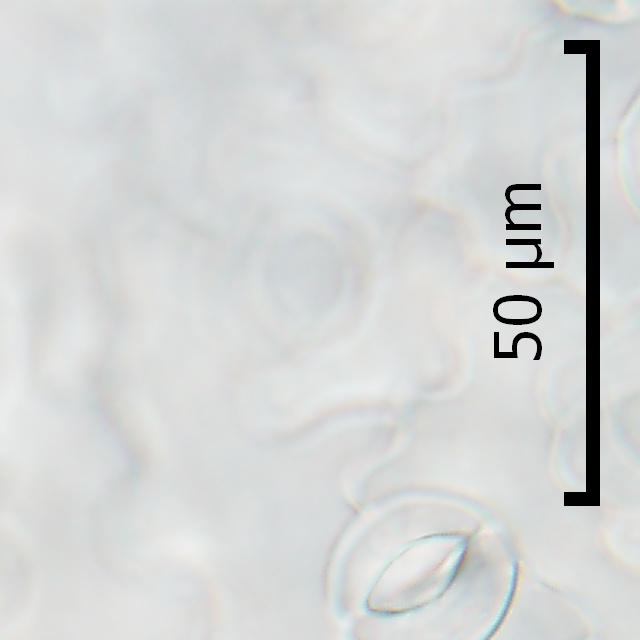center: (367, 536, 469, 615), (577, 10, 616, 13), (602, 150, 640, 153)
stomata-huw1: (327, 492, 516, 639), (619, 91, 639, 212), (554, 1, 639, 22)
